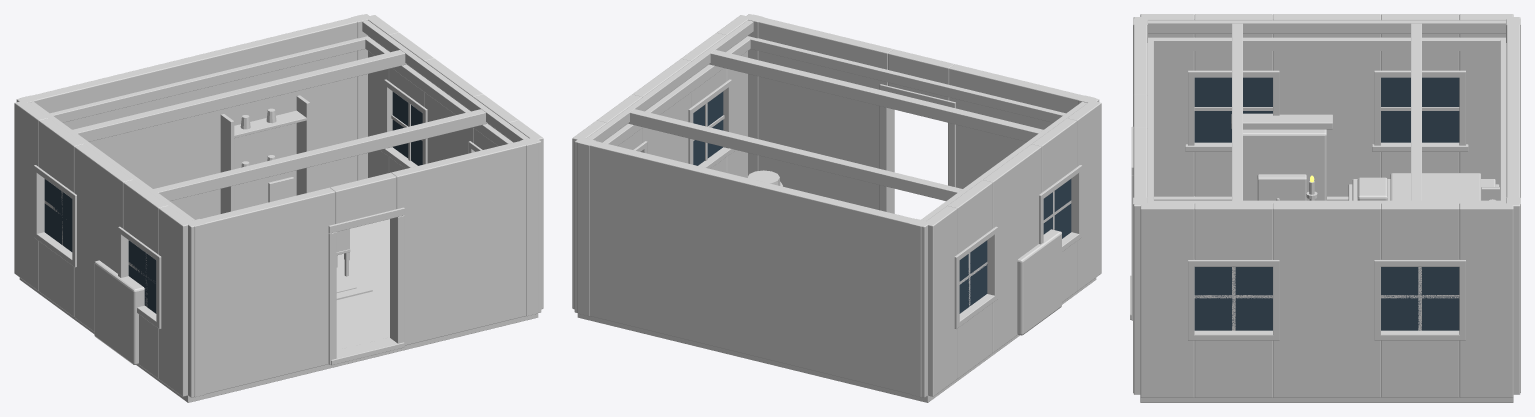
Rendered from interior_house_a.fbx.
The picture shows the model from 3 angles, left to right: view 1: azimuth 30°, elevation 25°; view 2: azimuth 150°, elevation 25°; view 3: azimuth 270°, elevation 25°; orthographic projection. The views are drawn at different scales.
Visible parts, largest first — view 1: interior_house_a; view 2: interior_house_a; view 3: interior_house_a.
Part boxes in pixels (left/top/right/bottom): interior_house_a: left=14, top=14, right=543, bottom=402; interior_house_a: left=572, top=14, right=1101, bottom=402; interior_house_a: left=1130, top=14, right=1520, bottom=402.
Bounding box in the file's own units: 630 × 292 × 524.
